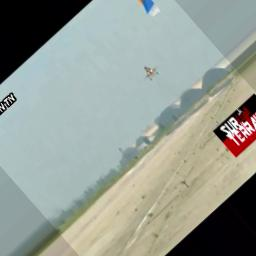Airplane: (141, 64, 161, 81)
